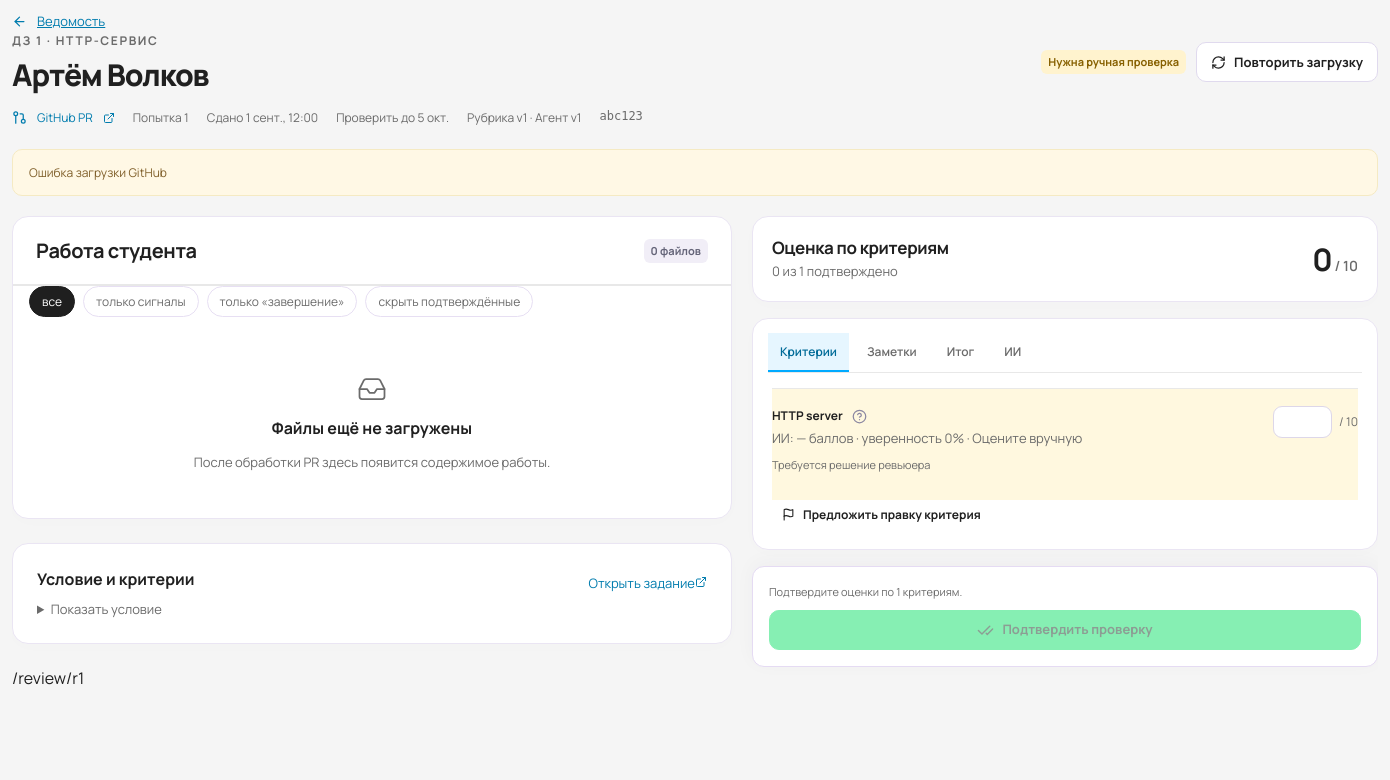
Test: контроль решений ревьюера › повторяет загрузку после ошибки импорта и открывает новую проверку
The width and height of the screenshot is (1390, 780).
What coordinates should you click on to do the following:
click the button "Повторить загрузку"
I would click on:
 (1287, 62)
Its box is [1196,42,1378,82].
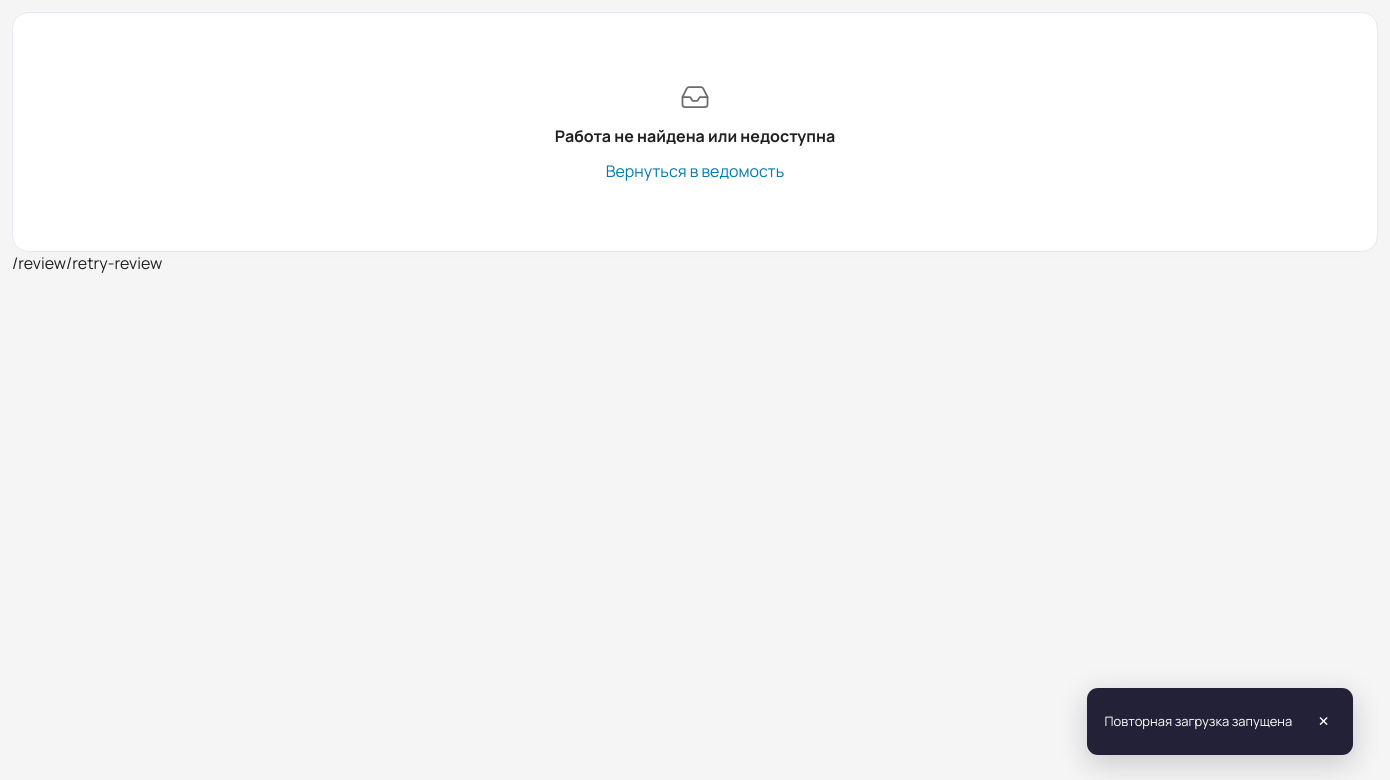
Now the text with test id "location" reads "/review/retry-review", box [12,252,162,274]
